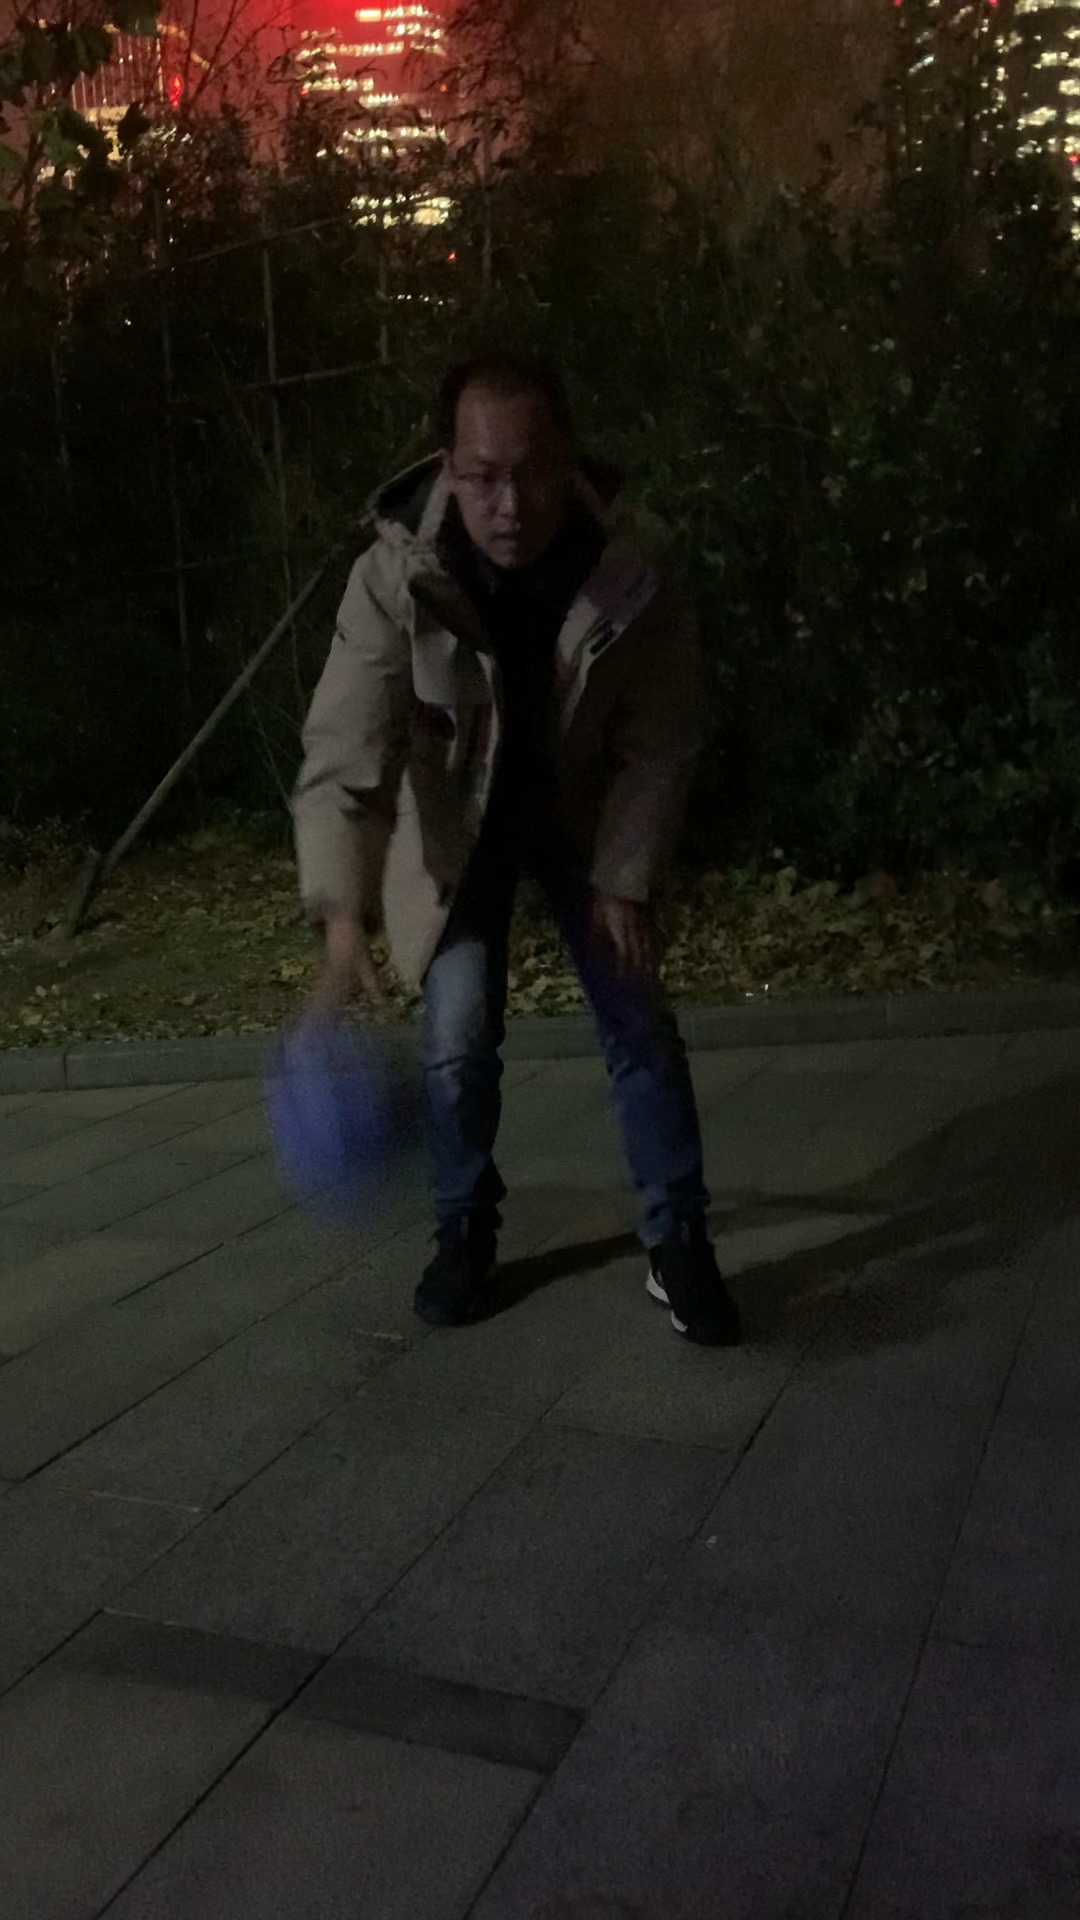ball: (269, 1043, 450, 1215)
